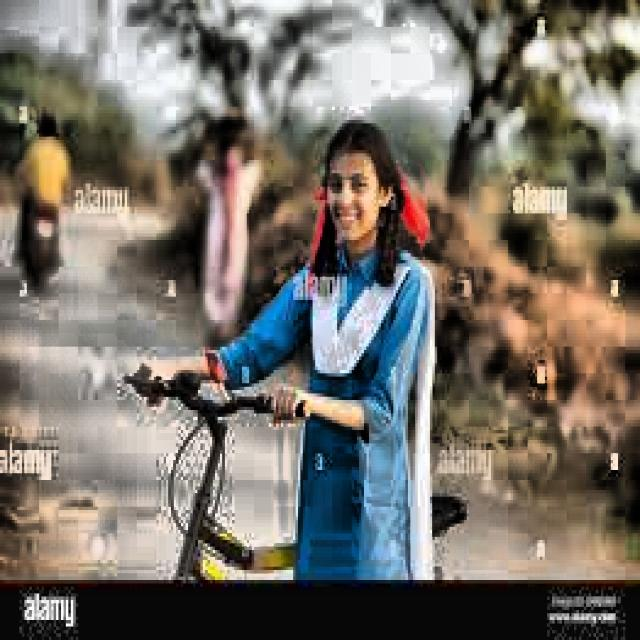Human: (252, 110, 472, 640)
